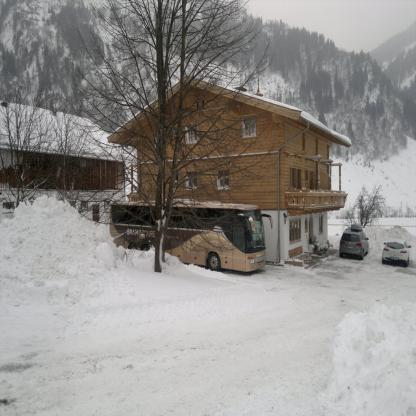Bus: (109, 199, 273, 272)
